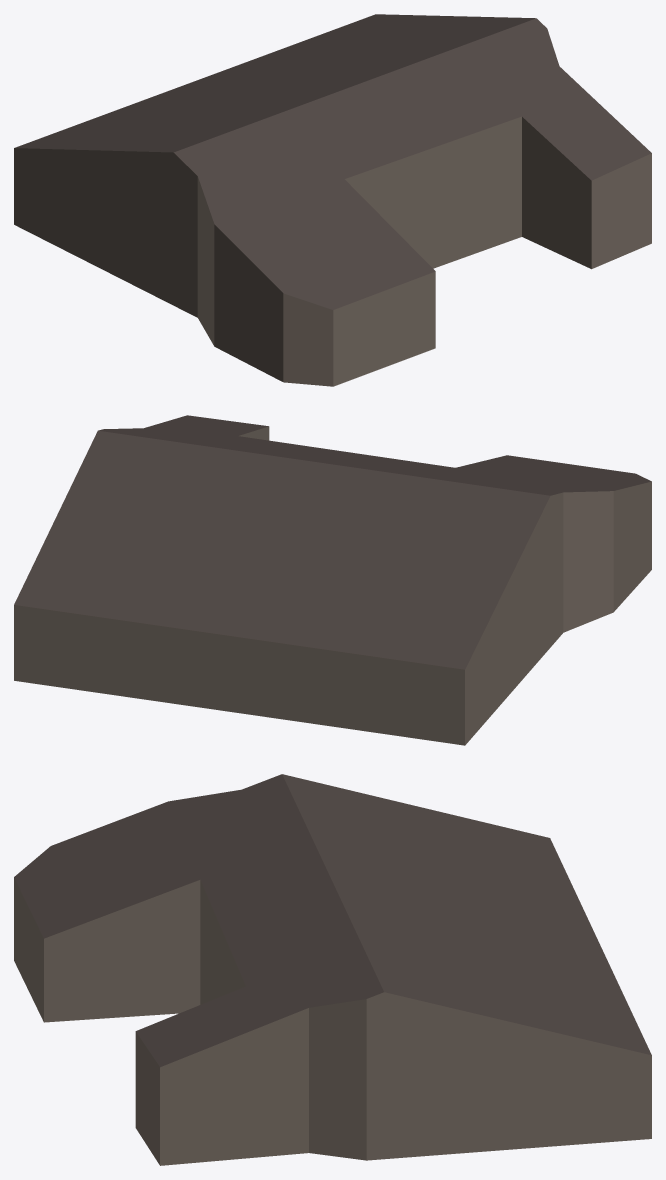
3 views of the same model, one above another, from view 1: azimuth 30°, elevation 25°; view 2: azimuth 150°, elevation 25°; view 3: azimuth 270°, elevation 25° (orthographic). The views are drawn at different scales.
Visible parts, largest first — view 1: HP-w428179925; view 2: HP-w428179925; view 3: HP-w428179925.
Boxes of the visible parts, x1=… form: HP-w428179925: x1=14, y1=14, x2=651, y2=386; HP-w428179925: x1=14, y1=415, x2=651, y2=745; HP-w428179925: x1=14, y1=774, x2=651, y2=1165.
Size of the model in its own units: 18.82 by 6 by 20.77.
